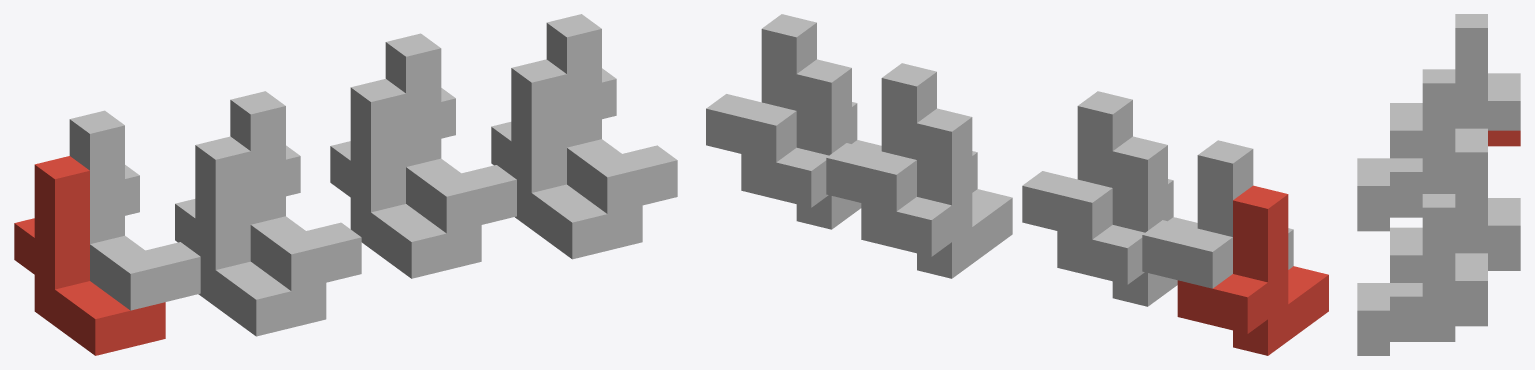
Rendered from tiling.obj.
3 views of the same model, side by side, from view 1: azimuth 30°, elevation 25°; view 2: azimuth 150°, elevation 25°; view 3: azimuth 270°, elevation 25° (orthographic). The views are drawn at different scales.
Visible parts, largest first — view 1: copy_1_domain_1, copy_1_domain_5, copy_1_domain_2, copy_1_domain_6, copy_1_domain_4, copy_1_domain_7, copy_1_domain_3, copy_1_domain_8; view 2: copy_1_domain_1, copy_1_domain_5, copy_1_domain_2, copy_1_domain_6, copy_1_domain_3, copy_1_domain_7, copy_1_domain_4, copy_1_domain_8; view 3: copy_1_domain_8, copy_1_domain_4, copy_1_domain_7, copy_1_domain_3, copy_1_domain_6, copy_1_domain_2, copy_1_domain_1, copy_1_domain_5.
Boxes of the visible parts, box(x1,y1,x2,y2) form: copy_1_domain_1: box(14, 156, 165, 355); copy_1_domain_5: box(330, 79, 481, 278); copy_1_domain_2: box(175, 136, 326, 336); copy_1_domain_6: box(491, 59, 642, 259); copy_1_domain_4: box(230, 91, 361, 290); copy_1_domain_7: box(385, 33, 516, 233); copy_1_domain_3: box(69, 110, 200, 310); copy_1_domain_8: box(546, 14, 677, 213); copy_1_domain_1: box(1177, 185, 1328, 355); copy_1_domain_5: box(861, 108, 1012, 278); copy_1_domain_2: box(1057, 136, 1197, 306); copy_1_domain_6: box(741, 59, 881, 229); copy_1_domain_3: box(1142, 140, 1293, 288); copy_1_domain_7: box(826, 63, 977, 211); copy_1_domain_4: box(1022, 91, 1173, 239); copy_1_domain_8: box(706, 14, 857, 162); copy_1_domain_8: box(1357, 194, 1487, 340); copy_1_domain_4: box(1357, 69, 1487, 215); copy_1_domain_7: box(1390, 138, 1520, 282); copy_1_domain_3: box(1390, 14, 1520, 158); copy_1_domain_6: box(1357, 310, 1487, 355); copy_1_domain_2: box(1357, 201, 1422, 231); copy_1_domain_1: box(1488, 130, 1520, 146); copy_1_domain_5: box(1488, 255, 1520, 270).
Size of the model in its own units: 16 by 5 by 5.
